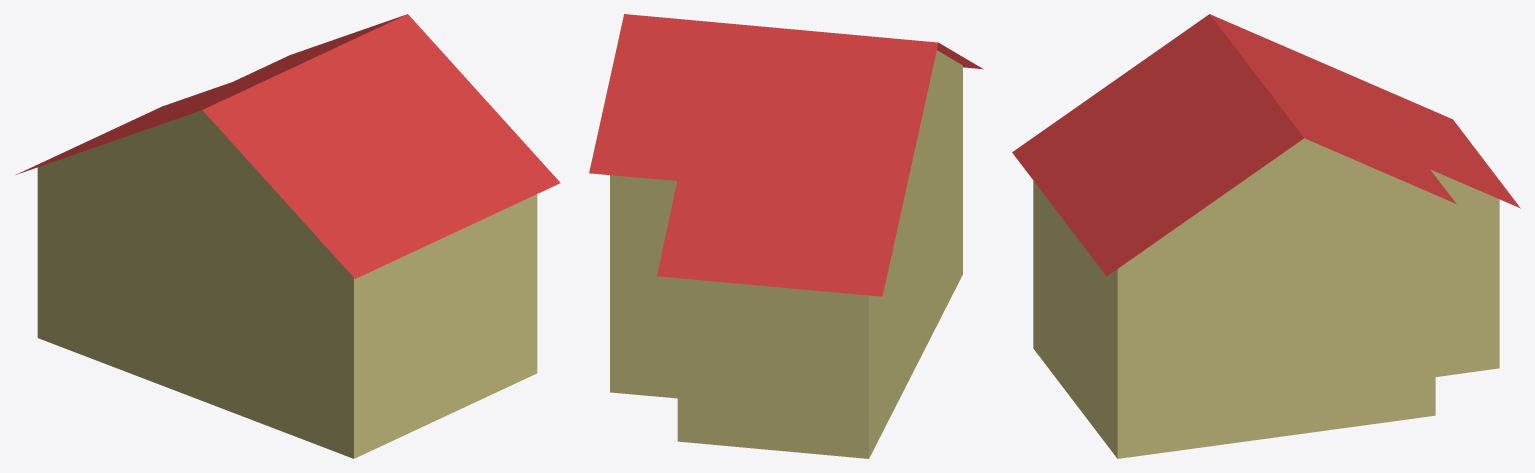
The picture shows the model from 3 angles, left to right: view 1: azimuth 30°, elevation 25°; view 2: azimuth 150°, elevation 25°; view 3: azimuth 270°, elevation 25°; orthographic projection. The views are drawn at different scales.
Bounding box in the file's own units: 12.94 × 15.1 × 9.91.
